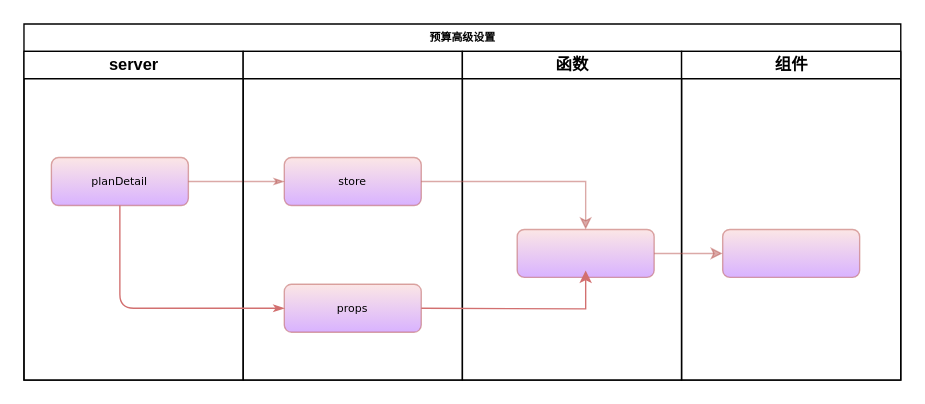
The diagram is 925 pixels wide and 404 high, and some of its shapes have lost their labels. Each missing label, with the box of its shape:
labelWithAttr: (516, 228, 654, 277)
TopForm: (721, 228, 860, 277)
数据层: (242, 50, 462, 380)
